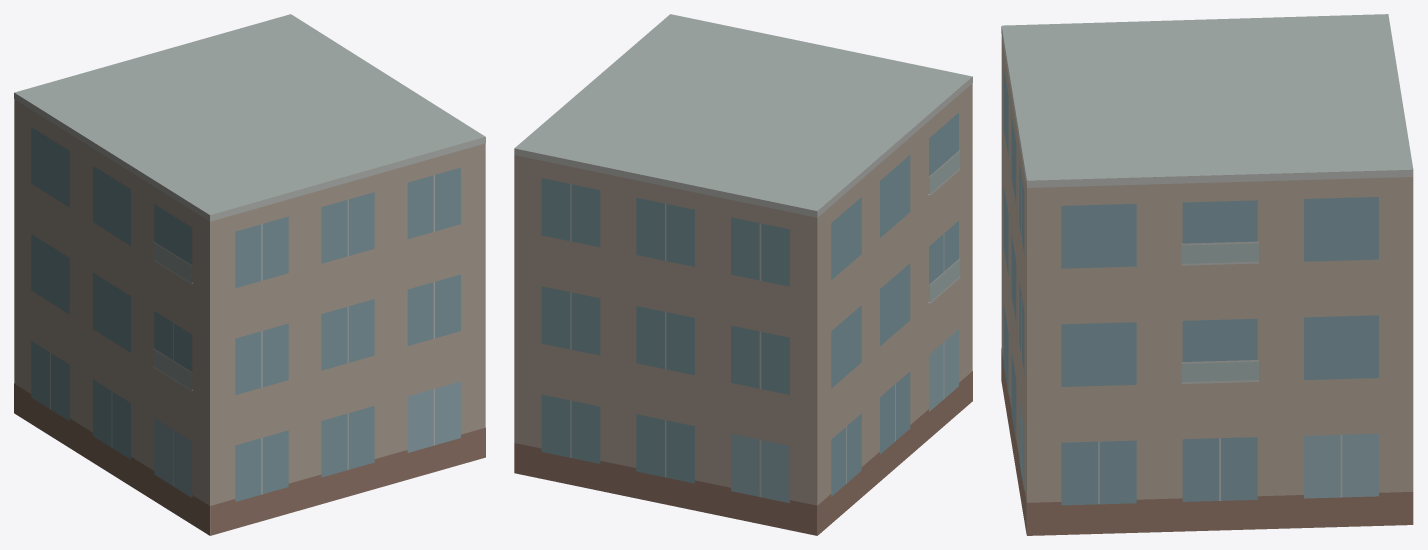
The model's file is survey-upis-33043222.glb.
The picture shows the model from 3 angles, left to right: view 1: azimuth 30°, elevation 25°; view 2: azimuth 150°, elevation 25°; view 3: azimuth 270°, elevation 25°; orthographic projection. The views are drawn at different scales.
Parts seen in each view (by area): view 1: survey-upis-33043222.tmp; view 2: survey-upis-33043222.tmp; view 3: survey-upis-33043222.tmp.
Part boxes in pixels (left/top/right/bottom): survey-upis-33043222.tmp: left=14, top=14, right=485, bottom=535; survey-upis-33043222.tmp: left=514, top=14, right=972, bottom=535; survey-upis-33043222.tmp: left=1001, top=14, right=1413, bottom=535.
Size of the model in its own units: 12.09 by 12 by 12.62.
